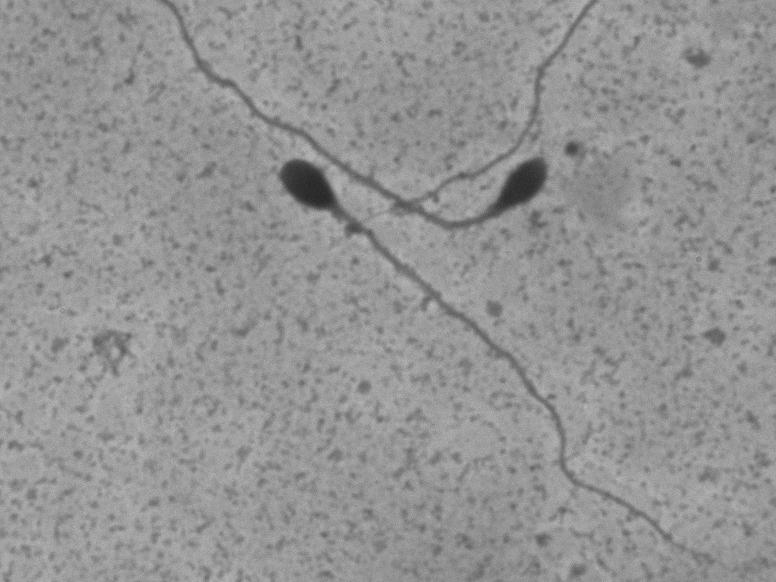Abnormal: (156, 3, 563, 240)
Normal: (253, 144, 723, 572)
